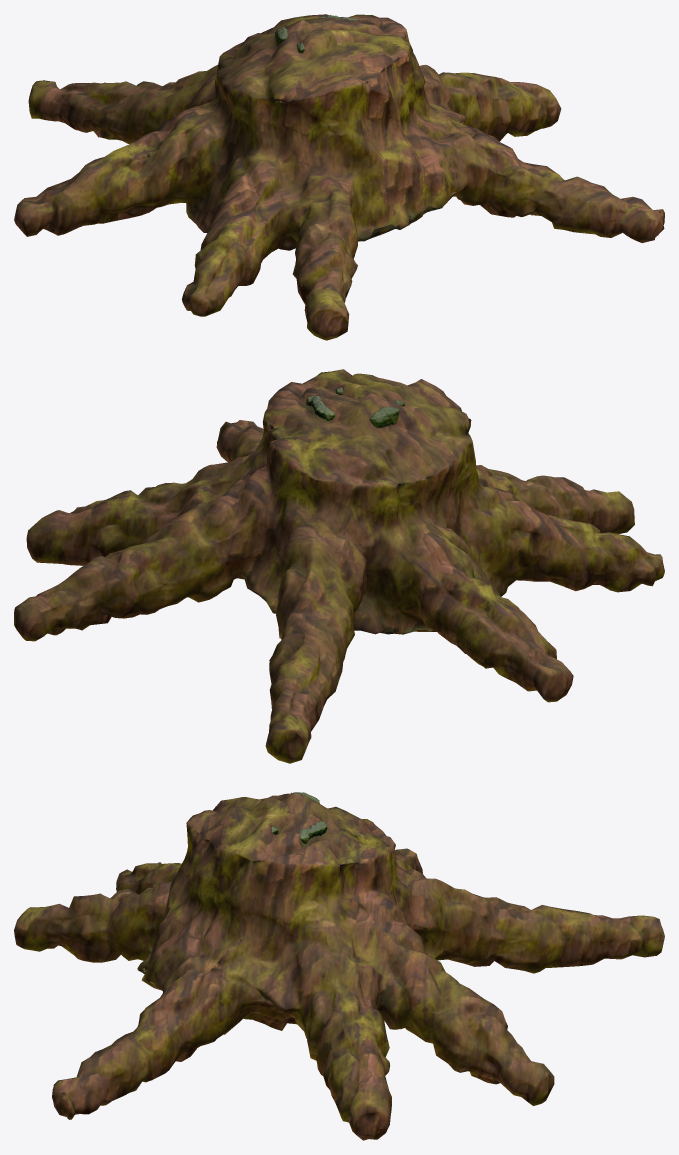
Rendered from rtree_crown.glb.
3 renders of one model, top to bottom at view 1: azimuth 30°, elevation 25°; view 2: azimuth 150°, elevation 25°; view 3: azimuth 270°, elevation 25°, orthographic. The views are drawn at different scales.
Visible parts, largest first — view 1: bark; view 2: bark, moss; view 3: bark.
Part boxes in pixels (x1=…): bark: x1=14, y1=14, x2=664, y2=340; bark: x1=14, y1=369, x2=664, y2=763; moss: x1=306, y1=387, x2=404, y2=427; bark: x1=14, y1=793, x2=664, y2=1140.
Size of the model in its own units: 0.9576 by 0.3705 by 0.9956.
2 materials, 2 textured.
